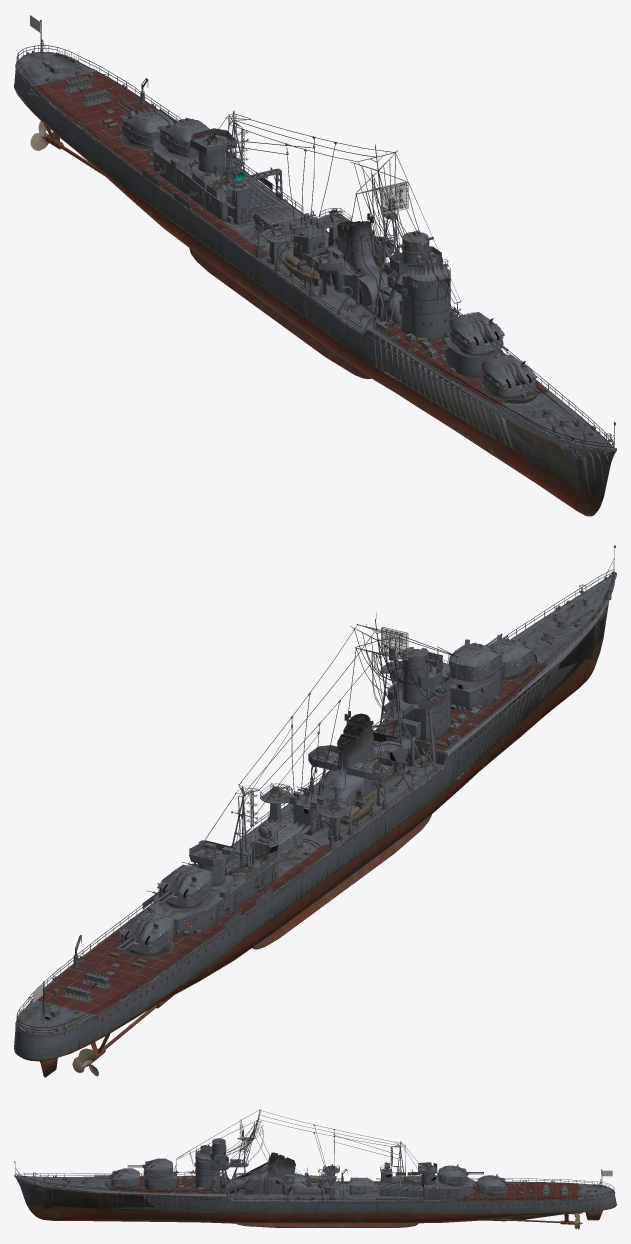
File: ijn_akizuki_war_thunder-maximum-compressed.glb
3 views of the same model, one above another, from view 1: azimuth 30°, elevation 25°; view 2: azimuth 150°, elevation 25°; view 3: azimuth 270°, elevation 25° (orthographic). The views are drawn at different scales.
Parts seen in each view (by area): view 1: Object_39, Object_50, Object_26, Object_29, Object_10, Object_42, Object_51, Object_2, Object_44, Object_34, Object_46, Object_37 (+9 smaller); view 2: Object_39, Object_50, Object_29, Object_26, Object_10, Object_42, Object_51, Object_44, Object_2, Object_37, Object_34, Object_45 (+8 smaller); view 3: Object_39, Object_26, Object_50, Object_29, Object_42, Object_46, Object_10, Object_44, Object_51, Object_25, Object_34, Object_37 (+10 smaller).
Part boxes in pixels (bbox=[...]): Object_39: bbox=[14, 45, 616, 496]; Object_50: bbox=[43, 61, 588, 440]; Object_26: bbox=[14, 84, 603, 516]; Object_29: bbox=[19, 53, 612, 449]; Object_10: bbox=[34, 71, 549, 404]; Object_42: bbox=[16, 22, 613, 447]; Object_51: bbox=[142, 115, 436, 357]; Object_2: bbox=[19, 88, 610, 495]; Object_44: bbox=[158, 118, 503, 354]; Object_34: bbox=[380, 245, 451, 341]; Object_46: bbox=[16, 68, 613, 495]; Object_37: bbox=[260, 208, 397, 324]; Object_39: bbox=[14, 571, 616, 1059]; Object_50: bbox=[45, 597, 587, 1020]; Object_29: bbox=[20, 578, 611, 1033]; Object_26: bbox=[14, 637, 603, 1077]; Object_10: bbox=[36, 662, 547, 1014]; Object_42: bbox=[16, 569, 614, 1030]; Object_51: bbox=[142, 620, 479, 929]; Object_44: bbox=[157, 639, 504, 907]; Object_2: bbox=[15, 582, 614, 1058]; Object_37: bbox=[260, 713, 415, 841]; Object_34: bbox=[381, 647, 451, 765]; Object_45: bbox=[119, 668, 526, 955]; Object_39: bbox=[14, 1173, 616, 1213]; Object_26: bbox=[26, 1204, 616, 1227]; Object_50: bbox=[43, 1138, 597, 1200]; Object_29: bbox=[18, 1150, 613, 1201]; Object_42: bbox=[16, 1110, 614, 1199]; Object_46: bbox=[17, 1162, 583, 1219]; Object_10: bbox=[110, 1176, 578, 1201]; Object_44: bbox=[144, 1158, 467, 1184]; Object_51: bbox=[172, 1110, 456, 1201]; Object_25: bbox=[17, 1166, 614, 1203]; Object_34: bbox=[193, 1145, 248, 1198]; Object_37: bbox=[228, 1152, 339, 1199].
Size of the model in its own units: 12.41 by 29.13 by 134.
25 materials, 25 textured.
